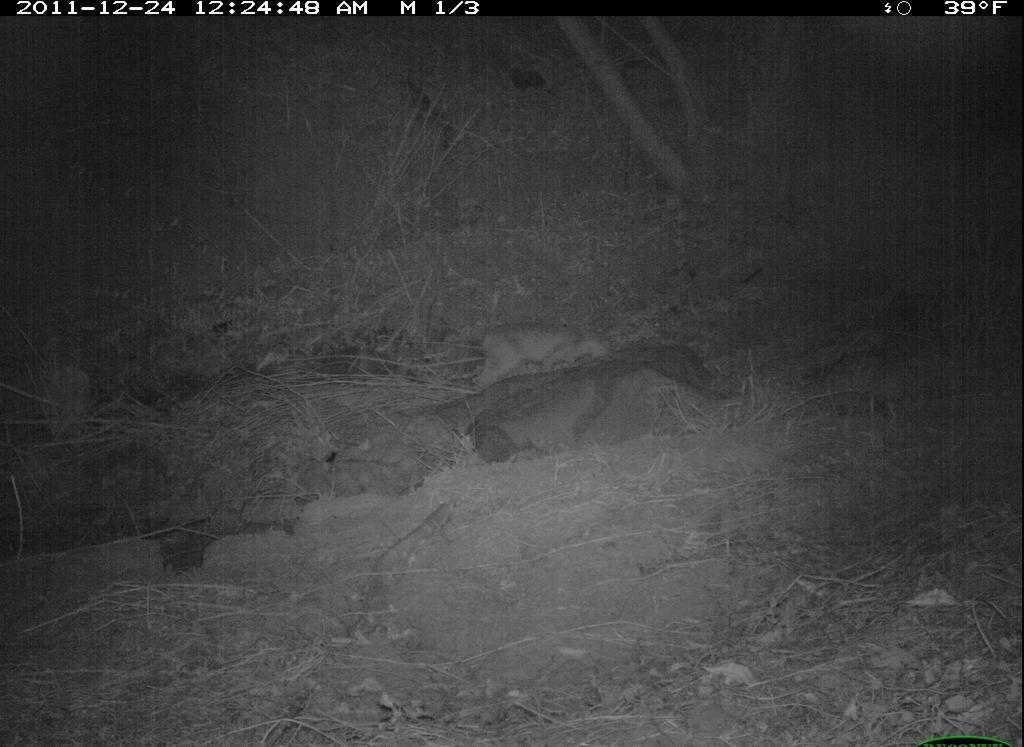bobcat: (459, 312, 632, 411)
